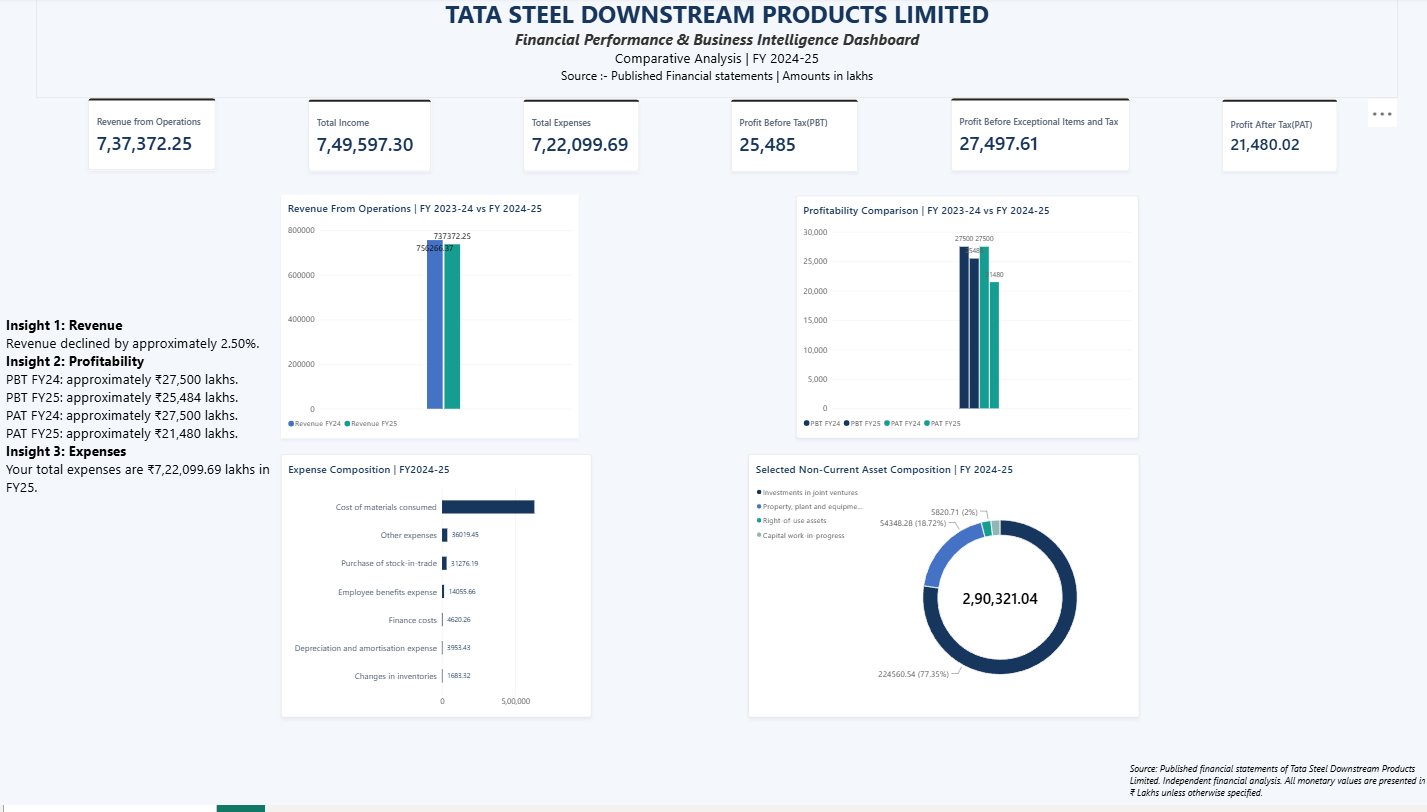

This screenshot's page, from the dashboard's own definition file:
{"tool":"powerbi","page":{"name":"Executive Dashboard","canvas":[2560,1440],"ordinal":0},"visuals":[{"type":"textbox","box":[70.9,0,2426.1,181],"z":0},{"type":"cardVisual","fields":{"Data":["Financial_Data.Revenue FY25"]},"box":[165.8,180.5,226.2,128.5],"z":0,"group":"g4"},{"type":"cardVisual","fields":{"Data":["Financial_Data.Total Income FY25"]},"box":[556.6,182.6,219,128.5],"z":1000,"group":"g4"},{"type":"clusteredColumnChart","title":"Revenue From Operations | FY 2023-24 vs FY 2024-25","fields":{"Y":["Financial_Data.Revenue FY24","Financial_Data.Revenue FY25"]},"box":[508,352,530,434],"z":1000,"group":"g2"},{"type":"cardVisual","fields":{"Data":["Financial_Data.PBT FY25"]},"box":[1311.2,182.6,226.7,129.1],"z":2000,"group":"g4"},{"type":"clusteredColumnChart","title":"Profitability Comparison | FY 2023-24 vs FY 2024-25","fields":{"Y":["Financial_Anaylsis.PBT FY24","Financial_Data.PBT FY25","Financial_Anaylsis.PAT FY24","Financial_Anaylsis.PAT FY25"]},"box":[1425.1,354.1,610.7,432.3],"z":2000,"group":"g2"},{"type":"cardVisual","fields":{"Data":["Financial_Data.Profit Before Exceptional Items FY25"]},"box":[1702.6,181.3,318.5,129.2],"z":3000,"group":"g4"},{"type":"clusteredBarChart","title":"Expense Composition | FY2024-25","fields":{"Category":["Financial_Data.Particulars"],"Y":["Sum(Financial_Data.FY_2024_25_Rs_Lakhs)"]},"box":[507.9,814.4,552.8,467.9],"z":3000,"group":"g3"},{"type":"cardVisual","fields":{"Data":["Financial_Data.Total Expenses FY25"]},"box":[940.2,182.6,206.3,128.5],"z":4000,"group":"g4"},{"type":"donutChart","title":"Selected Non-Current Asset Composition | FY 2024-25","fields":{"Category":["Financial_Data.Particulars"],"Y":["Sum(Financial_Data.FY_2024_25_Rs_Lakhs)"]},"box":[1340,814.3,695.8,467.9],"z":4000,"group":"g3"},{"type":"cardVisual","fields":{"Data":["Financial_Anaylsis.PAT FY25"]},"box":[2185.7,182.6,205.8,129.1],"z":5000,"group":"g4"},{"type":"textbox","box":[72,328,208,84],"z":5000},{"type":"textbox","box":[16.8,568.7,495.3,375.7],"z":6000},{"type":"textbox","box":[2019,1362.1,541.5,77.7],"z":7000},{"type":"group","id":"g1","title":"Group 1","box":[165.8,180.5,2225.7,131.1],"z":8000},{"type":"group","id":"g2","title":"Group 3","box":[508,352,1527.9,434.4],"z":8001},{"type":"group","id":"g3","title":"Group 4","box":[507.9,814.3,1527.9,468],"z":8002},{"type":"group","id":"g4","title":"Group 2","box":[165.8,180.5,2225.7,131.1],"z":13002,"group":"g1"}]}

Visuals, with their boxes in screenshot pixels (x1, y1, x2, y2), scaled from the page's 2560x1440 canvas onto the 1427x812 screenshot:
textbox: bbox=[40, 0, 1392, 102]
cardVisual - Financial_Data.Revenue FY25: bbox=[92, 102, 219, 174]
cardVisual - Financial_Data.Total Income FY25: bbox=[310, 103, 432, 175]
"Revenue From Operations | FY 2023-24 vs FY 2024-25" clusteredColumnChart: bbox=[283, 198, 579, 443]
cardVisual - Financial_Data.PBT FY25: bbox=[731, 103, 857, 176]
"Profitability Comparison | FY 2023-24 vs FY 2024-25" clusteredColumnChart: bbox=[794, 200, 1135, 443]
cardVisual - Financial_Data.Profit Before Exceptional Items FY25: bbox=[949, 102, 1127, 175]
"Expense Composition | FY2024-25" clusteredBarChart: bbox=[283, 459, 591, 723]
cardVisual - Financial_Data.Total Expenses FY25: bbox=[524, 103, 639, 175]
"Selected Non-Current Asset Composition | FY 2024-25" donutChart: bbox=[747, 459, 1135, 723]
cardVisual - Financial_Anaylsis.PAT FY25: bbox=[1218, 103, 1333, 176]
textbox: bbox=[40, 185, 156, 232]
textbox: bbox=[9, 321, 285, 533]
textbox: bbox=[1125, 768, 1426, 811]
"Group 1" group: bbox=[92, 102, 1333, 176]
"Group 3" group: bbox=[283, 198, 1135, 443]
"Group 4" group: bbox=[283, 459, 1135, 723]
"Group 2" group: bbox=[92, 102, 1333, 176]
